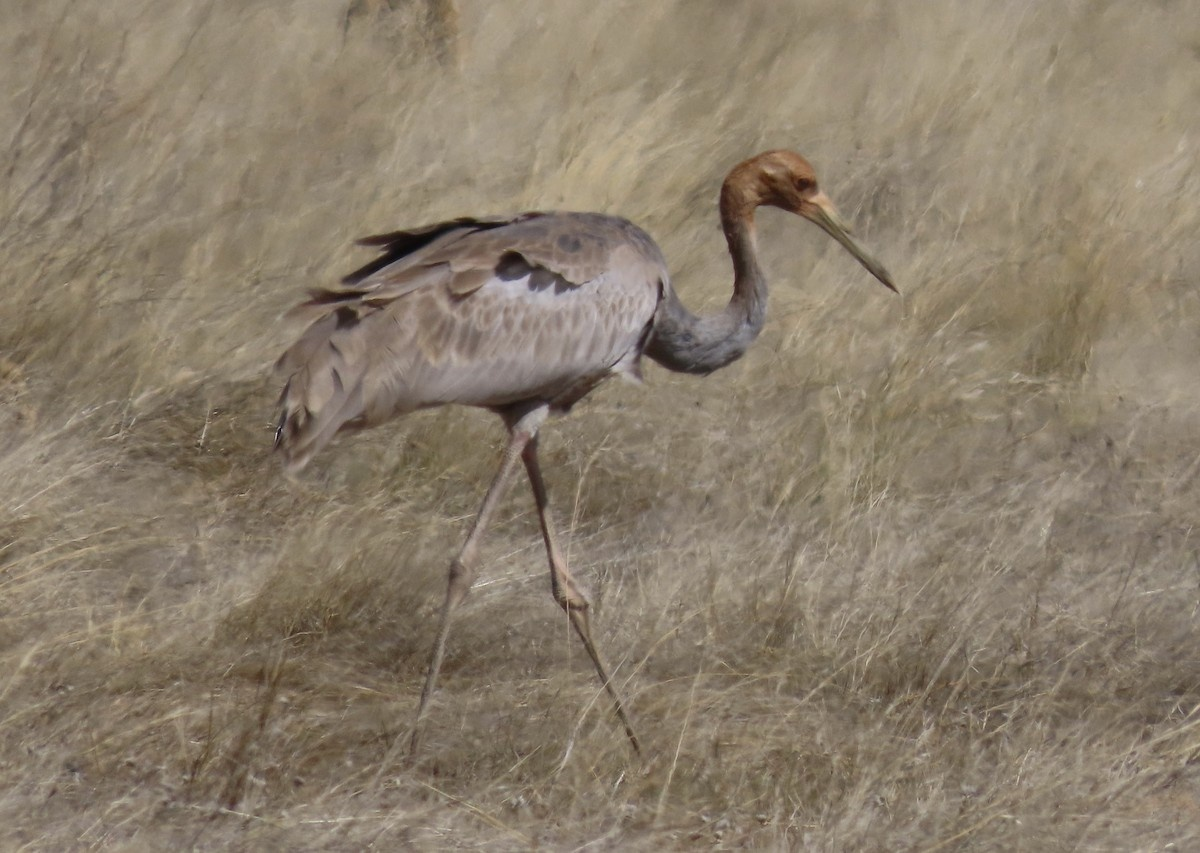crane: (245, 149, 927, 764)
